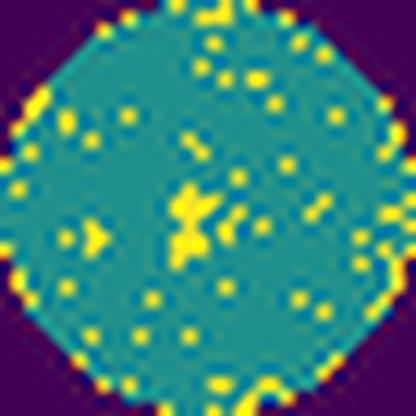Center: (166, 177, 225, 281)
